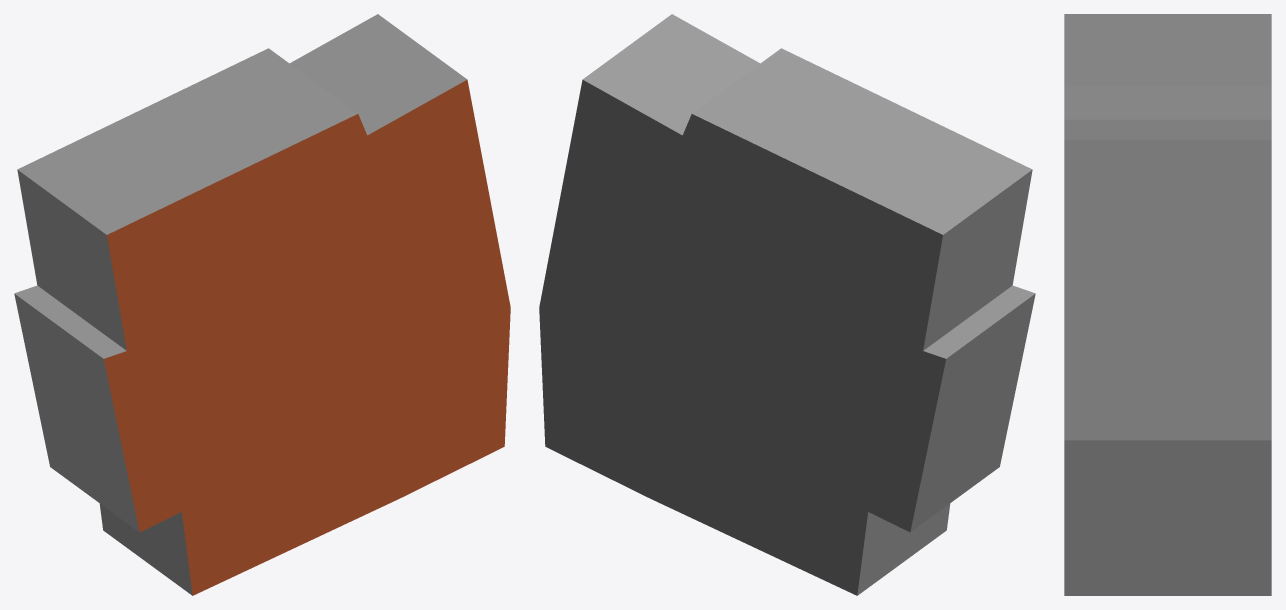
The model's file is construction_0711_assumed_A_Casa_h6m.obj.
3 views of the same model, side by side, from view 1: azimuth 30°, elevation 25°; view 2: azimuth 150°, elevation 25°; view 3: azimuth 270°, elevation 25° (orthographic). The views are drawn at different scales.
Visible parts, largest first — view 1: construction_0711_assumed_A_Casa; view 2: construction_0711_assumed_A_Casa; view 3: construction_0711_assumed_A_Casa.
Part boxes in pixels (bbox=[...]): construction_0711_assumed_A_Casa: bbox=[14, 14, 510, 595]; construction_0711_assumed_A_Casa: bbox=[539, 14, 1035, 595]; construction_0711_assumed_A_Casa: bbox=[1064, 14, 1271, 595].
Size of the model in its own units: 15.75 by 16.61 by 6.
